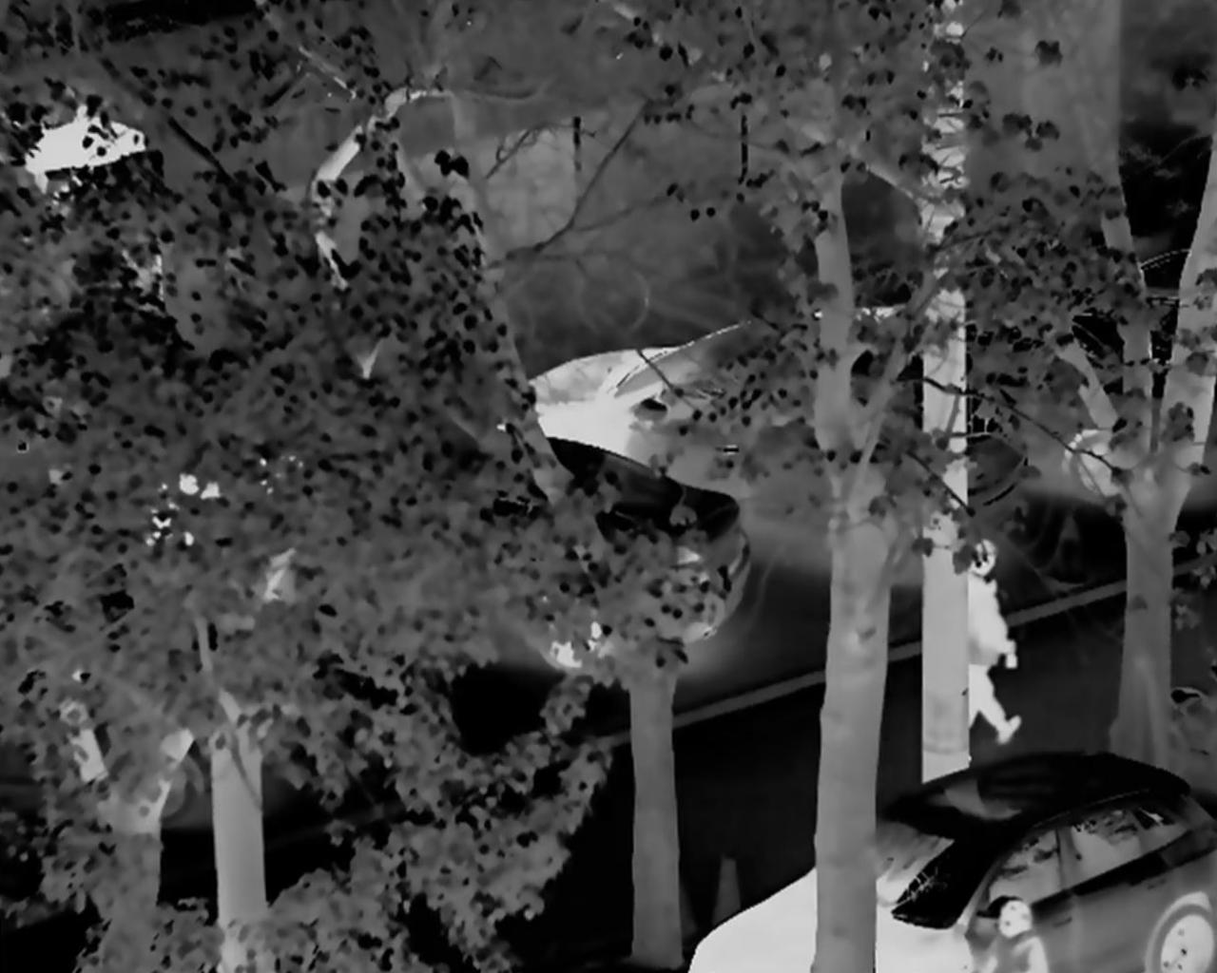person: (933, 527, 1022, 761)
